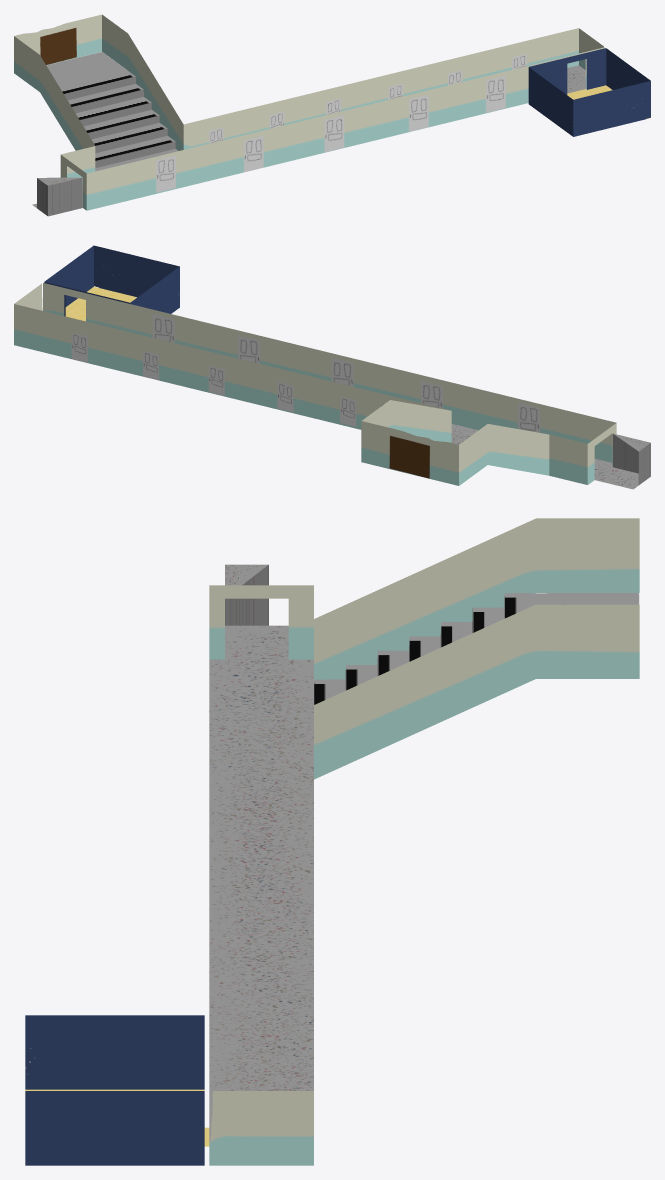
Rendered from map low.FBX.
3 views of the same model, one above another, from view 1: azimuth 30°, elevation 25°; view 2: azimuth 150°, elevation 25°; view 3: azimuth 270°, elevation 25° (orthographic). The views are drawn at different scales.
Visible parts, largest first — view 1: map; view 2: map; view 3: map.
Boxes of the visible parts, x1,y1,x2,y2 form: map: [14, 14, 650, 216]; map: [14, 245, 650, 489]; map: [25, 518, 639, 1165].
Bounding box in the file's own units: 3942 × 597 × 1896.
